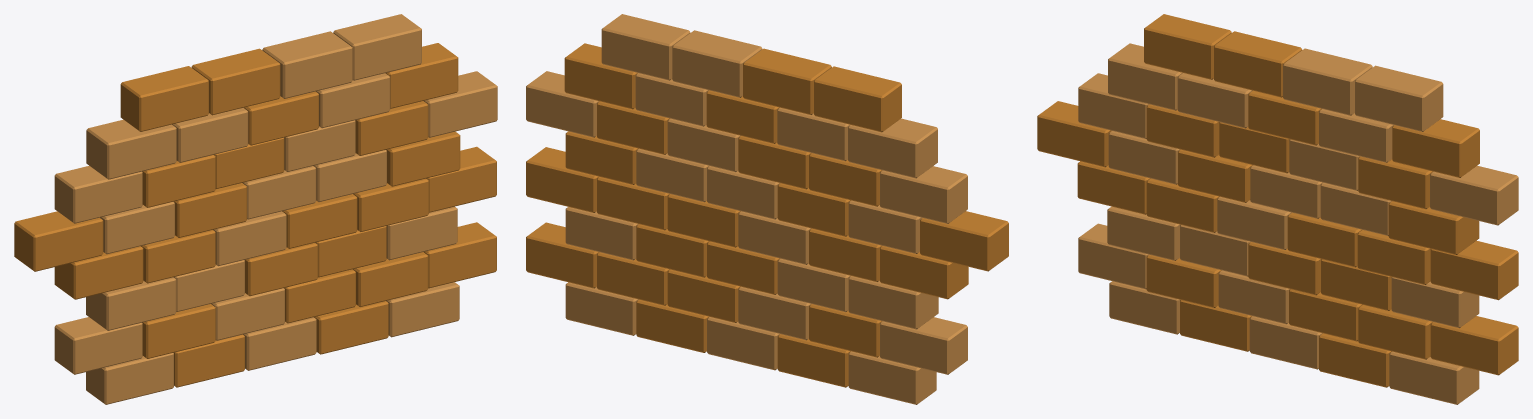
The model's file is wall_pieces.fbx.
3 views of the same model, side by side, from view 1: azimuth 30°, elevation 25°; view 2: azimuth 150°, elevation 25°; view 3: azimuth 330°, elevation 25° (orthographic).
Visible parts, largest first — view 1: Wall 1, Wall 2, Wall 3, Wall 4; view 2: Wall 1, Wall 2, Wall 3, Wall 4; view 3: Wall 1, Wall 2, Wall 3, Wall 4.
Boxes of the visible parts, x1=… form: Wall 1: x1=14, y1=48, x2=318, y2=299; Wall 2: x1=262, y1=14, x2=497, y2=231; Wall 3: x1=54, y1=211, x2=316, y2=404; Wall 4: x1=244, y1=194, x2=496, y2=354; Wall 1: x1=706, y1=48, x2=1008, y2=299; Wall 2: x1=526, y1=14, x2=762, y2=230; Wall 3: x1=707, y1=211, x2=967, y2=404; Wall 4: x1=526, y1=194, x2=779, y2=352; Wall 1: x1=1037, y1=14, x2=1322, y2=218; Wall 2: x1=1283, y1=48, x2=1518, y2=300; Wall 3: x1=1078, y1=178, x2=1322, y2=369; Wall 4: x1=1248, y1=212, x2=1518, y2=404.
Bounding box in the file's own units: 2.96 × 0.2531 × 1.83.
